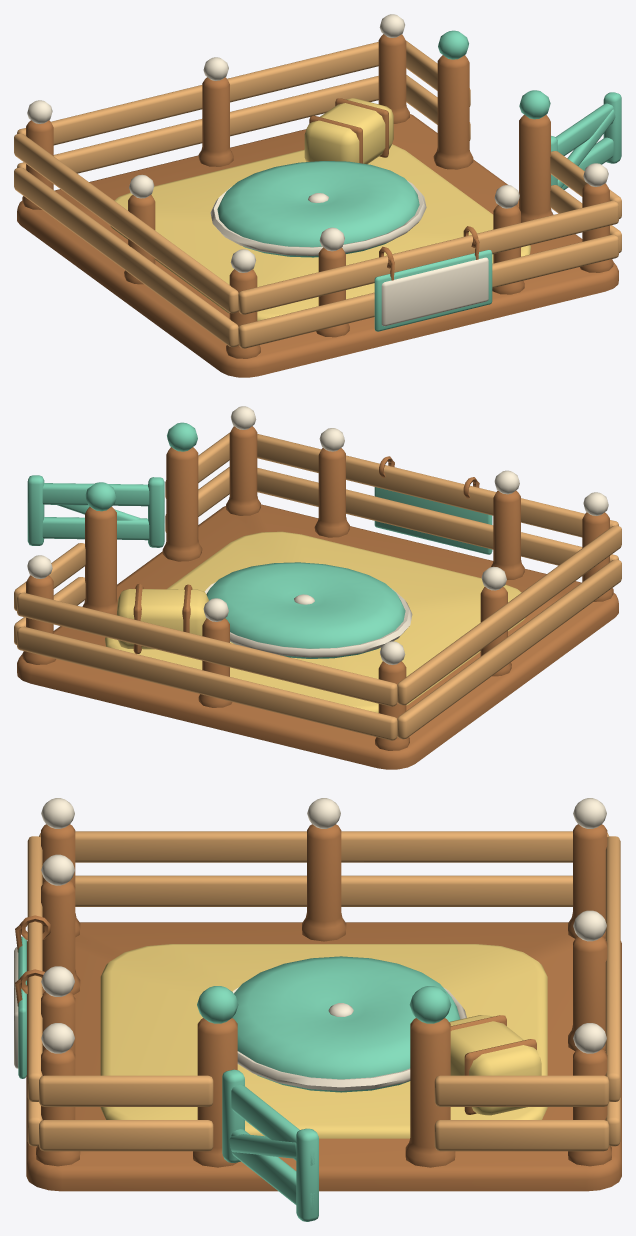
File: ShopCorral.fbx
3 renders of one model, top to bottom at view 1: azimuth 30°, elevation 25°; view 2: azimuth 150°, elevation 25°; view 3: azimuth 270°, elevation 25°, orthographic. The views are drawn at different scales.
Parts seen in each view (by area): view 1: ShopCorral; view 2: ShopCorral; view 3: ShopCorral.
Part boxes in pixels (box(x1,y1,x2,y2)): ShopCorral: box(14, 14, 621, 377); ShopCorral: box(14, 406, 621, 769); ShopCorral: box(14, 798, 621, 1221).
Size of the model in its own units: 3.5 by 0.986 by 2.86.
